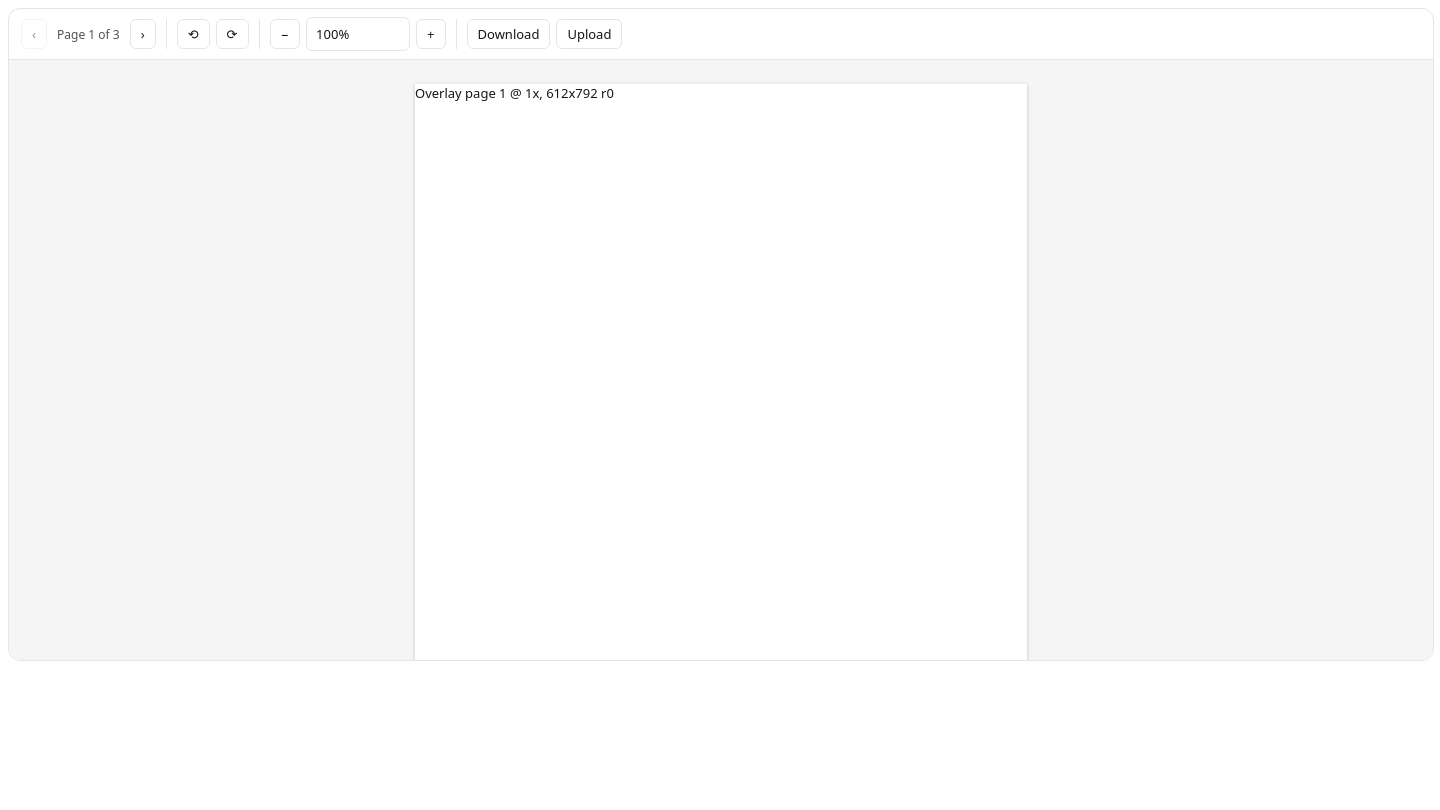
Scenario: PdfViewer › keeps overlays in unrotated page space and rotates them with the page, like upstream
The width and height of the screenshot is (1440, 810).
Expected: the text "Page 1 of 3" is shown, [53,26,124,42]
Expected: the text with test id "test-overlay" shows "612x792 r0", [415,84,614,102]
Click the button named "Rotate clockwise": (232, 34) [216,19,248,49]
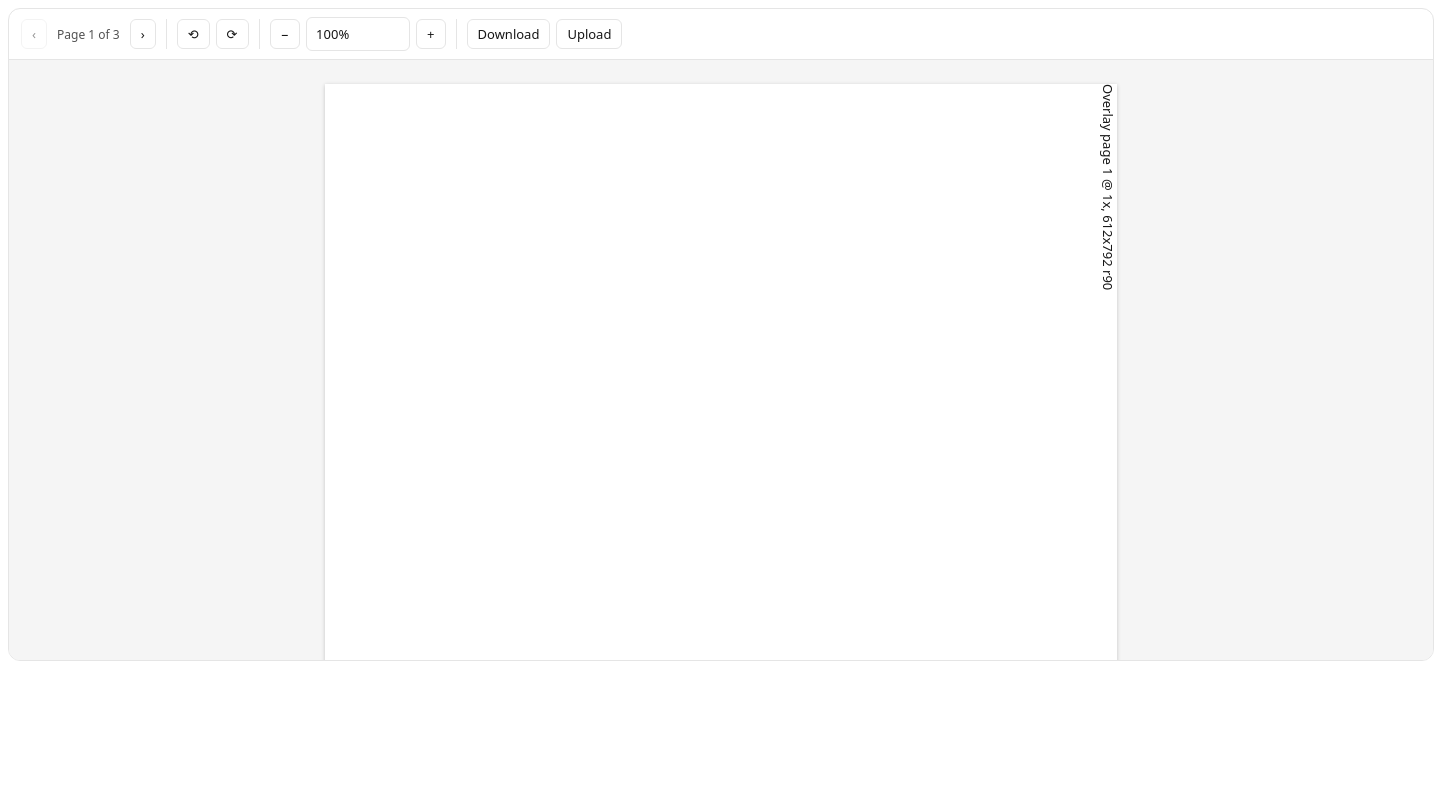
Now the text with test id "test-overlay" reads "Overlay page 1 @ 1x, 612x792 r90", box [1099,84,1117,290]
